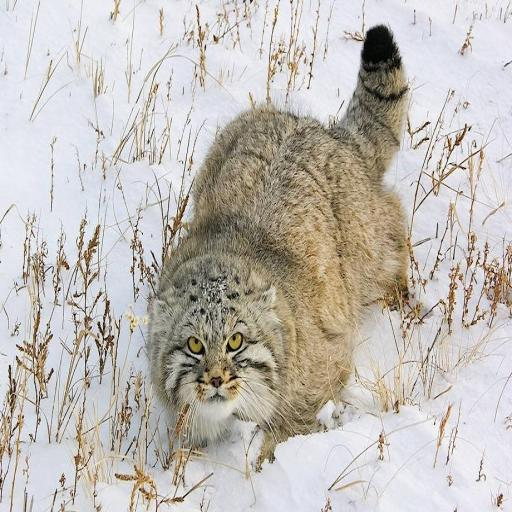manul: (147, 25, 407, 463)
